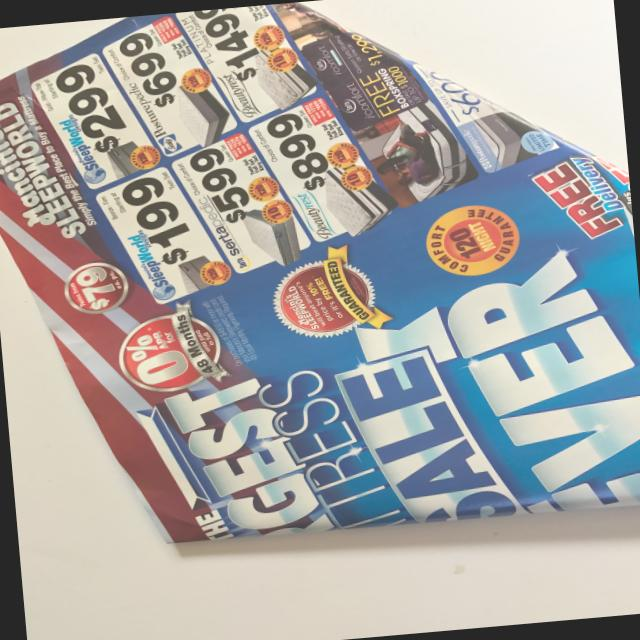Paper: (0, 0, 640, 562)
